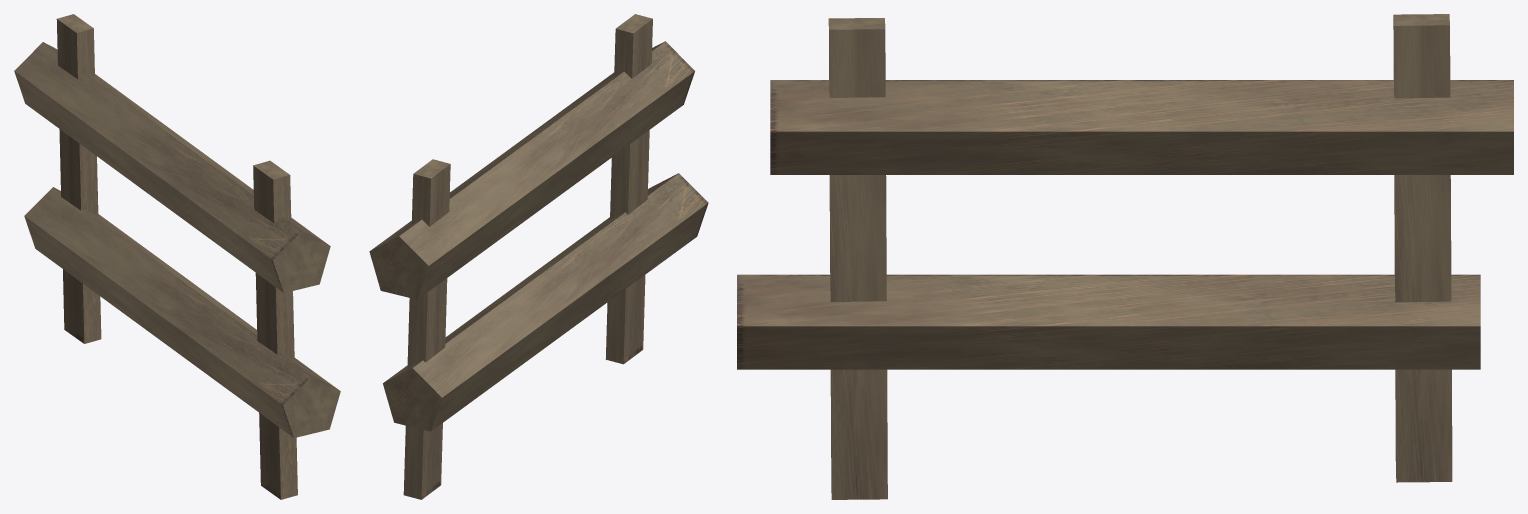
Rendered from fence_wood.obj.
3 views of the same model, side by side, from view 1: azimuth 30°, elevation 25°; view 2: azimuth 150°, elevation 25°; view 3: azimuth 270°, elevation 25° (orthographic). The views are drawn at different scales.
Parts seen in each view (by area): view 1: Cylinder.001, Cylinder, Cube.012_Cube.017, Cube.010; view 2: Cylinder.001, Cylinder, Cube.012_Cube.017, Cube.010; view 3: Cylinder, Cylinder.001, Cube.012_Cube.017, Cube.010.
Boxes of the visible parts, x1,y1,x2,y2 form: Cylinder.001: (24, 187, 340, 437); Cylinder: (14, 42, 330, 292); Cube.012_Cube.017: (253, 160, 297, 499); Cube.010: (56, 14, 101, 343); Cylinder.001: (383, 173, 708, 431); Cylinder: (369, 41, 694, 299); Cube.012_Cube.017: (605, 14, 652, 364); Cube.010: (403, 159, 450, 499); Cylinder: (770, 80, 1513, 174); Cylinder.001: (737, 274, 1480, 369); Cube.012_Cube.017: (828, 18, 887, 499); Cube.010: (1393, 14, 1452, 482).
Bounding box in the file's own units: 0.8156 × 4.3 × 6.45.
1 material, 1 textured.
